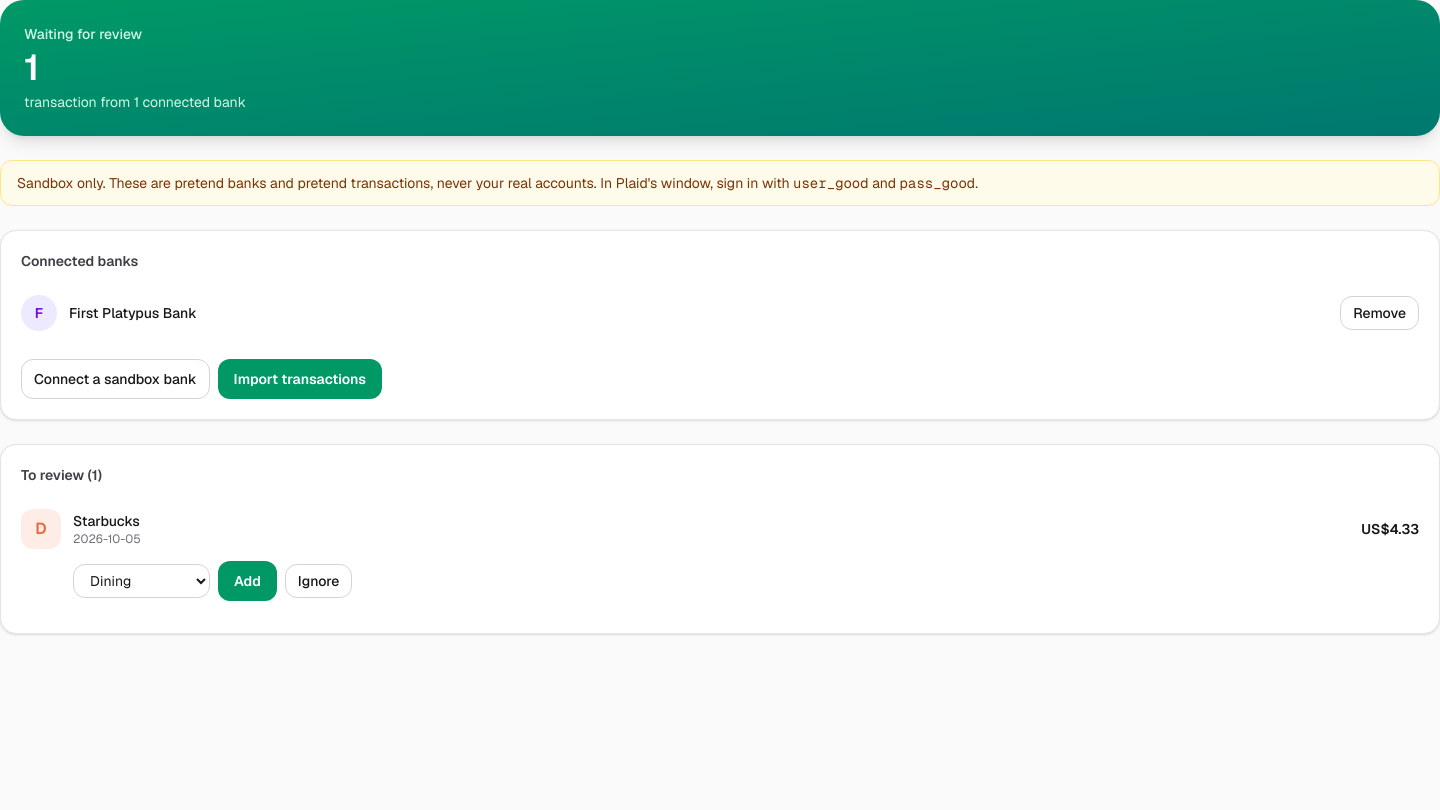
Test: importing says how many transactions came in
The width and height of the screenshot is (1440, 810).
Click the button "Import transactions". click: (300, 379)
box: [218,359,382,399]
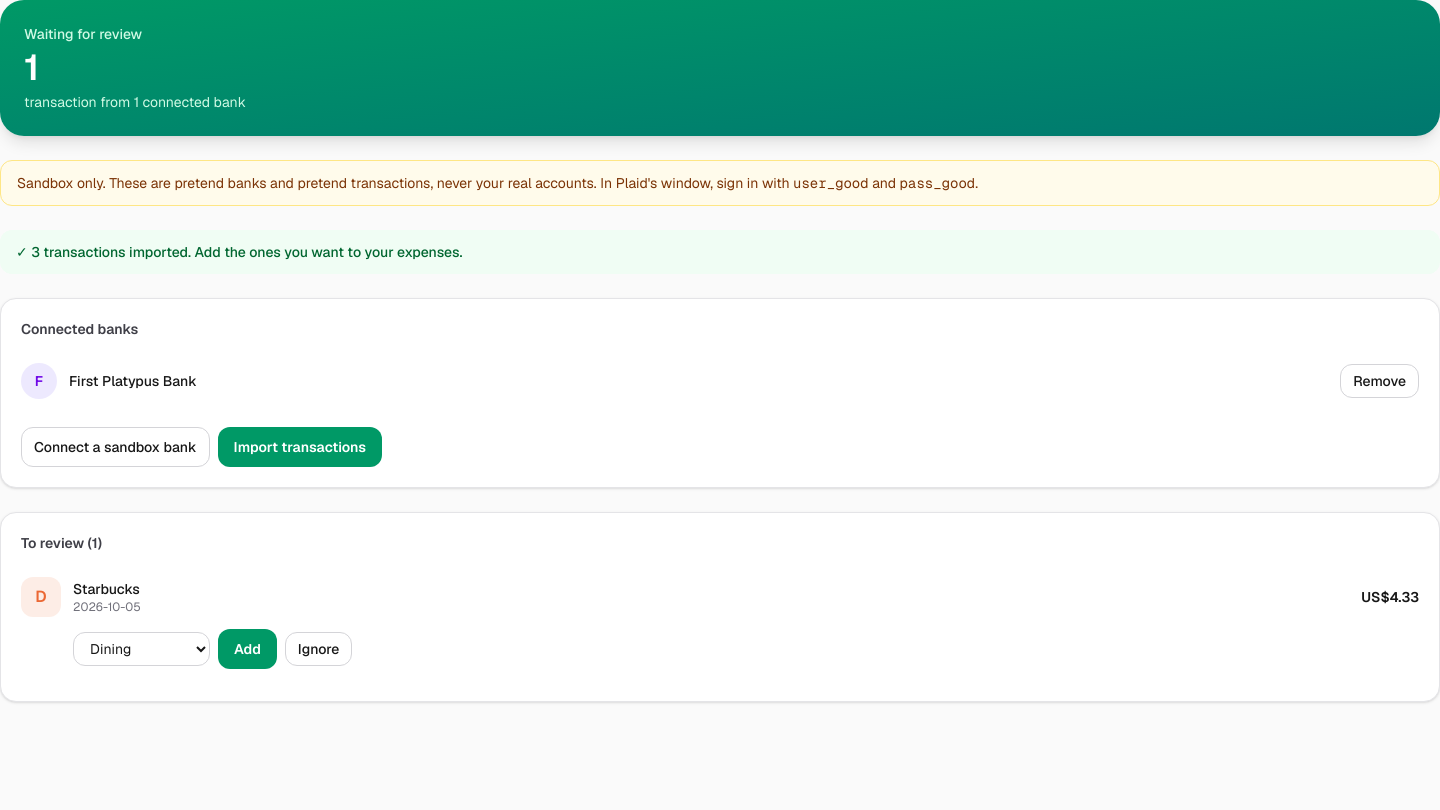
Now the message shows "3 transactions imported", box [31,243,462,261]
